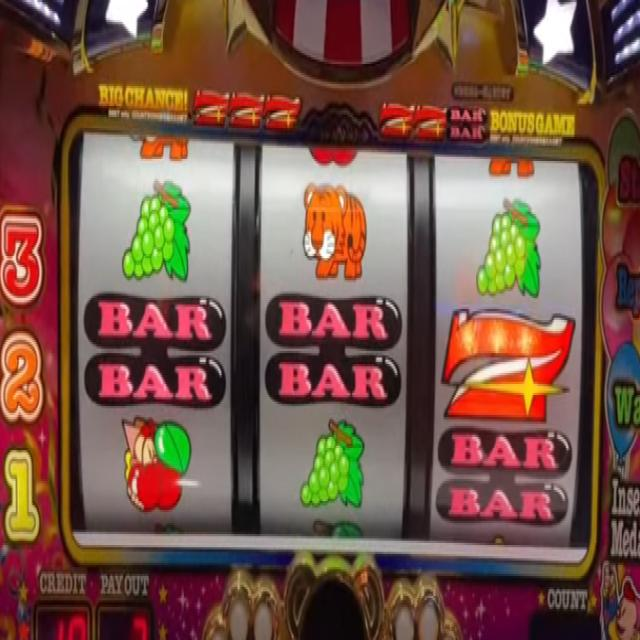bar: (84, 289, 226, 409), (265, 293, 401, 411), (437, 424, 572, 532), (449, 103, 486, 147)
cherry: (121, 414, 189, 508), (310, 147, 358, 168)
display: (66, 128, 590, 564)
elephant: (128, 129, 190, 161), (485, 156, 538, 178)
grape: (120, 178, 191, 282), (476, 198, 544, 300), (300, 418, 366, 511)
tiger: (302, 180, 367, 280)
z: (443, 307, 576, 419), (229, 90, 264, 132), (381, 100, 415, 139), (195, 88, 228, 128), (415, 103, 448, 141), (266, 94, 297, 130)
